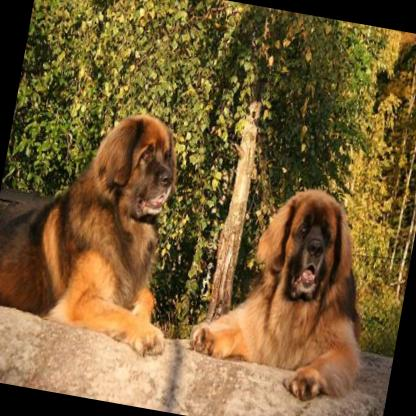Leonberg: (0, 87, 203, 358), (180, 168, 386, 406)
